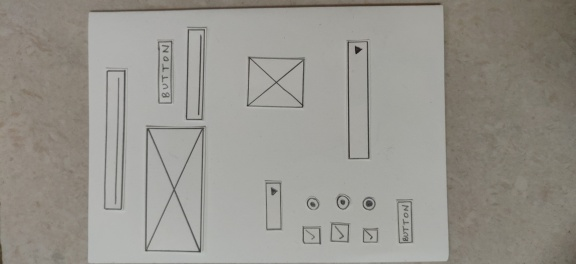button: (154, 38, 176, 110), (393, 197, 418, 246)
checkbox: (327, 220, 352, 246), (298, 223, 324, 247), (359, 224, 382, 247)
dropdown: (342, 37, 375, 163), (262, 178, 284, 233)
img: (139, 123, 207, 256), (244, 53, 307, 114)
radio: (332, 191, 351, 212), (359, 195, 379, 214), (303, 194, 322, 213)
text: (100, 67, 129, 213), (183, 24, 209, 123)
